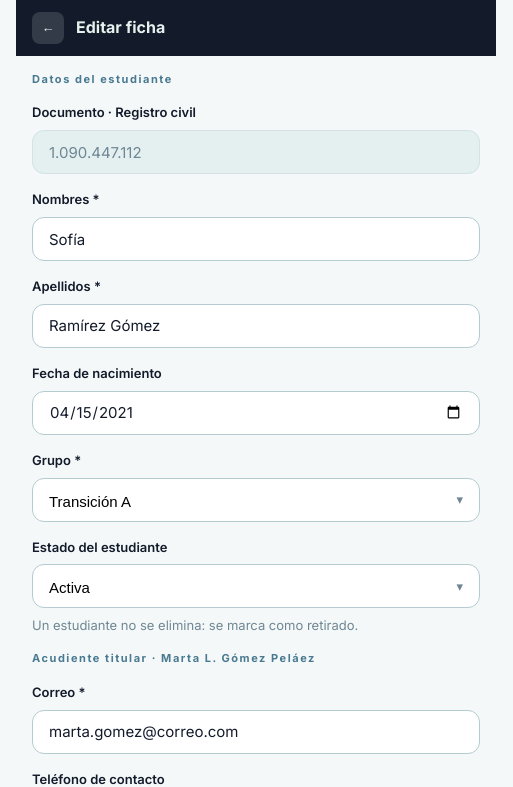
Test: editar ficha (HU01-E3) › pone el correo duplicado junto a su campo
The width and height of the screenshot is (513, 787).
Replace the text in the field labelled "Correo *" with "otra@correo.com" at (256, 732), box top-left (33, 710), bottom-right (479, 752)
(page scrolled)
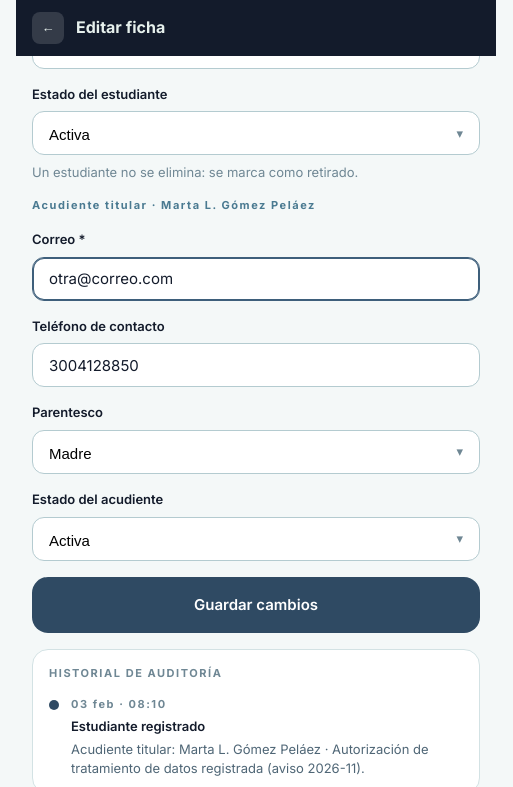
Click the button "Guardar cambios" at (256, 605), box top-left (32, 577), bottom-right (480, 633)
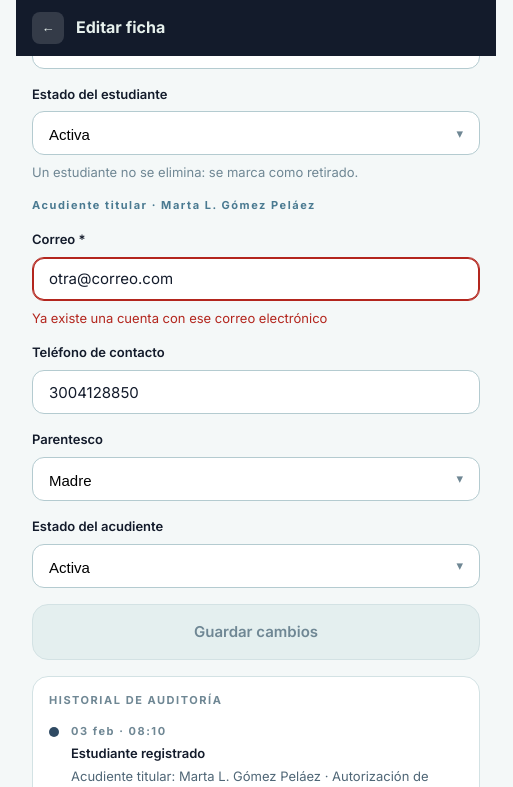
Now the text "Ya existe una cuenta con ese correo electrónico" is shown, box top-left (32, 310), bottom-right (327, 326)
